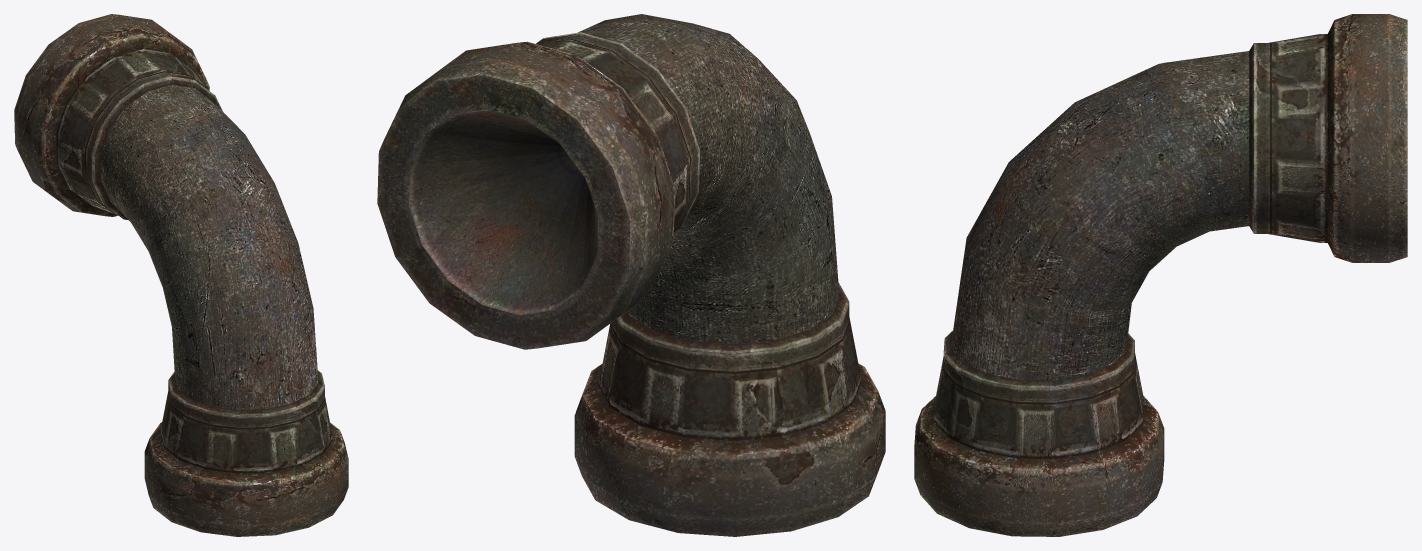
The model's file is pipe_large_90_short_pplant.dae.
3 views of the same model, side by side, from view 1: azimuth 30°, elevation 25°; view 2: azimuth 150°, elevation 25°; view 3: azimuth 270°, elevation 25° (orthographic). The views are drawn at different scales.
Parts seen in each view (by area): view 1: pipe_large_90_short_pplant; view 2: pipe_large_90_short_pplant; view 3: pipe_large_90_short_pplant.
Boxes of the visible parts, <box> form: pipe_large_90_short_pplant: <box>14,14,348,536</box>; pipe_large_90_short_pplant: <box>377,14,885,536</box>; pipe_large_90_short_pplant: <box>914,14,1407,536</box>.
Bounding box in the file's own units: 0.4907 × 1 × 0.9688.
